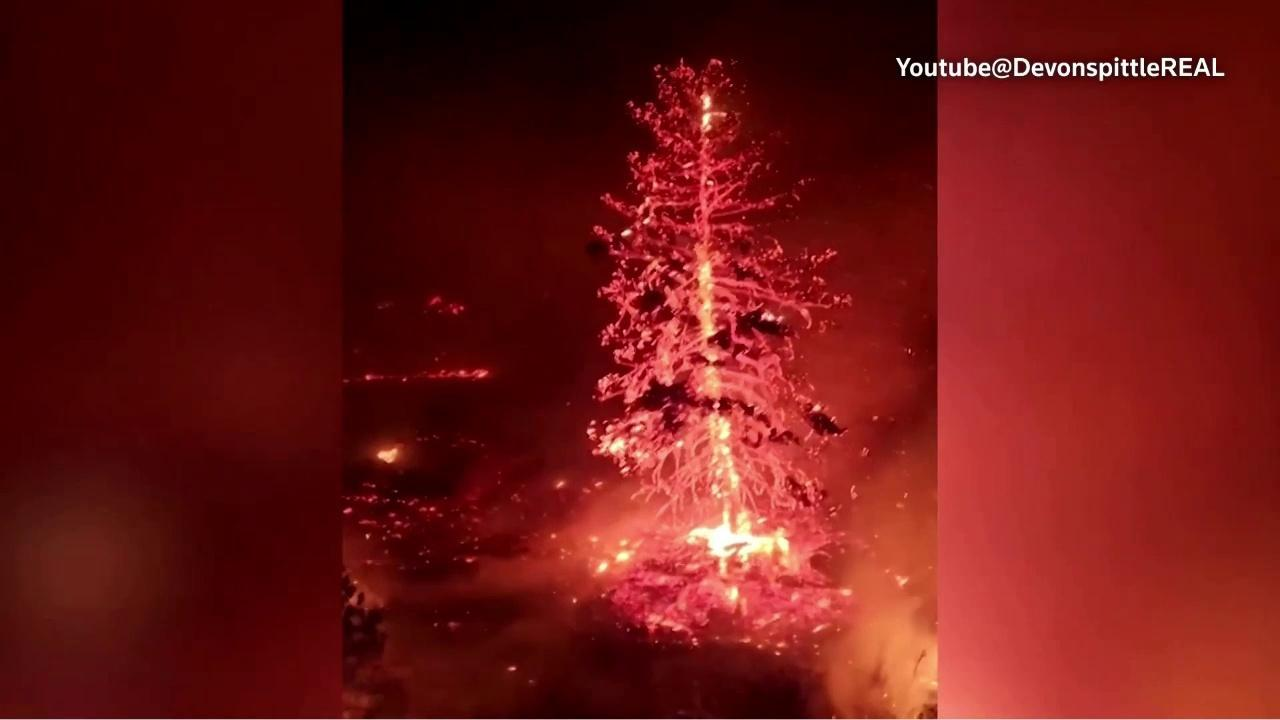fire: (586, 56, 874, 652), (363, 369, 490, 386), (374, 445, 399, 464), (891, 572, 914, 591), (342, 494, 380, 505), (448, 302, 465, 315), (358, 518, 378, 527), (446, 621, 463, 631), (555, 478, 567, 490), (427, 295, 441, 304), (342, 506, 354, 516), (407, 498, 420, 507), (418, 507, 437, 513), (361, 482, 377, 489), (549, 530, 558, 541), (464, 556, 477, 563), (391, 519, 404, 526), (508, 665, 518, 674), (391, 533, 402, 539), (387, 512, 396, 517)
smoke: (341, 7, 937, 720)
